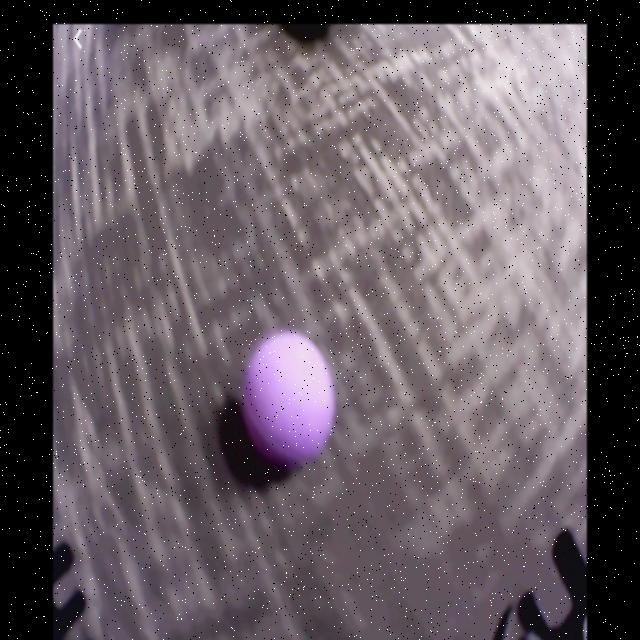ball: (248, 335, 335, 460)
